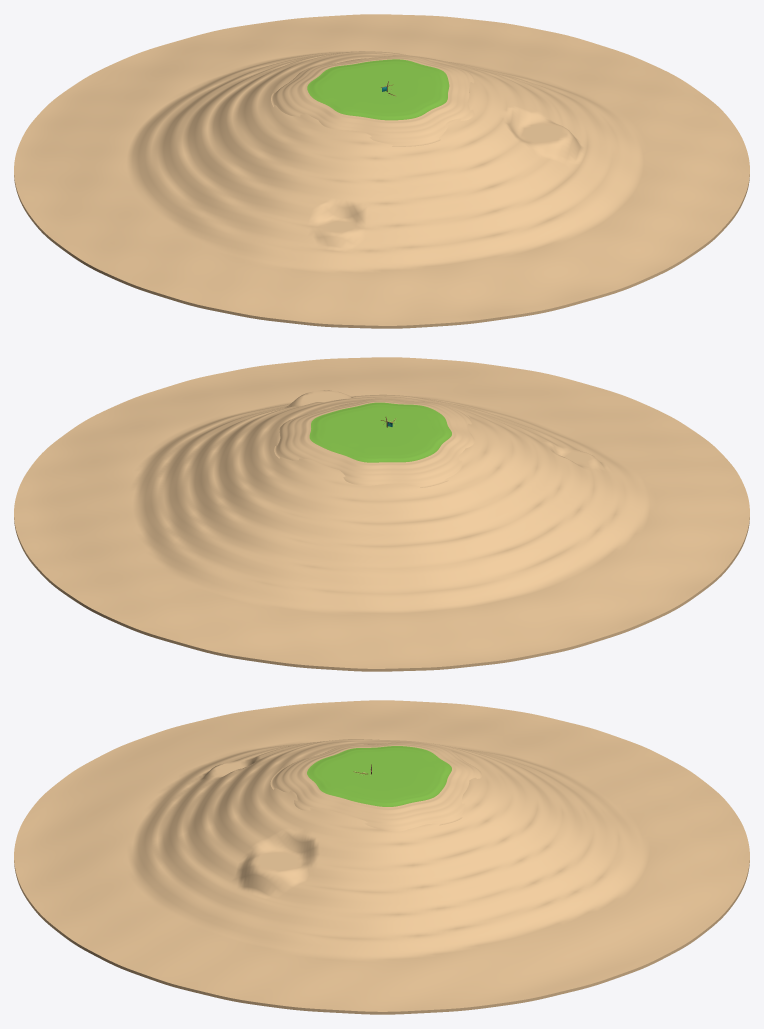
The model's file is SuckTheSea_DepthPolish.fbx.
The picture shows the model from 3 angles, top to bottom: view 1: azimuth 30°, elevation 25°; view 2: azimuth 150°, elevation 25°; view 3: azimuth 270°, elevation 25°; orthographic projection.
Parts seen in each view (by area): view 1: Seabed__Slope_04, Seabed__Slope_03, Seabed__Slope_02, Seabed__Slope_05, Seabed__Slope_01, Seabed__Slope_06, Seabed__Slope_00, Seabed__Slope_07, Seabed__Slope_08, Seabed__Slope_11, Seabed__Slope_10, Seabed__Slope_09 (+2 smaller); view 2: Seabed__Slope_08, Seabed__Slope_07, Seabed__Slope_09, Seabed__Slope_06, Seabed__Slope_05, Seabed__Slope_10, Seabed__Slope_11, Seabed__Slope_04, Seabed__Slope_00, Seabed__Slope_03, Seabed__Slope_02, Seabed__Slope_01 (+2 smaller); view 3: Seabed__Slope_00, Seabed__Slope_11, Seabed__Slope_01, Seabed__Slope_10, Seabed__Slope_09, Seabed__Slope_02, Seabed__Slope_03, Seabed__Slope_08, Seabed__Slope_04, Seabed__Slope_07, Seabed__Slope_06, Seabed__Slope_05 (+2 smaller).
Part boxes in pixels (left/top/right/bottom): Seabed__Slope_04: left=198, top=129, right=381, bottom=328; Seabed__Slope_03: left=382, top=142, right=565, bottom=328; Seabed__Slope_02: left=437, top=118, right=700, bottom=307; Seabed__Slope_05: left=63, top=114, right=335, bottom=307; Seabed__Slope_01: left=467, top=94, right=749, bottom=249; Seabed__Slope_06: left=14, top=102, right=304, bottom=249; Seabed__Slope_00: left=469, top=76, right=749, bottom=169; Seabed__Slope_07: left=14, top=77, right=294, bottom=170; Seabed__Slope_08: left=63, top=35, right=337, bottom=108; Seabed__Slope_11: left=436, top=35, right=700, bottom=107; Seabed__Slope_10: left=382, top=14, right=565, bottom=72; Seabed__Slope_09: left=198, top=14, right=381, bottom=66; Seabed__Slope_08: left=198, top=470, right=381, bottom=671; Seabed__Slope_07: left=382, top=484, right=565, bottom=671; Seabed__Slope_09: left=63, top=458, right=337, bottom=650; Seabed__Slope_06: left=437, top=457, right=700, bottom=650; Seabed__Slope_05: left=458, top=438, right=749, bottom=592; Seabed__Slope_10: left=14, top=443, right=301, bottom=592; Seabed__Slope_11: left=14, top=419, right=289, bottom=512; Seabed__Slope_04: left=467, top=420, right=749, bottom=512; Seabed__Slope_00: left=63, top=378, right=337, bottom=450; Seabed__Slope_03: left=443, top=378, right=700, bottom=451; Seabed__Slope_02: left=382, top=357, right=565, bottom=414; Seabed__Slope_01: left=198, top=357, right=381, bottom=410; Seabed__Slope_00: left=198, top=812, right=381, bottom=1014; Seabed__Slope_11: left=382, top=823, right=565, bottom=1014; Seabed__Slope_01: left=63, top=806, right=337, bottom=992; Seabed__Slope_10: left=434, top=802, right=700, bottom=993; Seabed__Slope_09: left=461, top=781, right=749, bottom=935; Seabed__Slope_02: left=14, top=788, right=297, bottom=935; Seabed__Slope_03: left=14, top=763, right=292, bottom=855; Seabed__Slope_08: left=469, top=763, right=749, bottom=855; Seabed__Slope_04: left=64, top=721, right=335, bottom=794; Seabed__Slope_07: left=442, top=722, right=699, bottom=794; Seabed__Slope_06: left=382, top=700, right=565, bottom=756; Seabed__Slope_05: left=198, top=700, right=381, bottom=751.
Bounding box in the file's own units: 708 × 101 × 708.
Materials: 1 (1 with a texture image).
